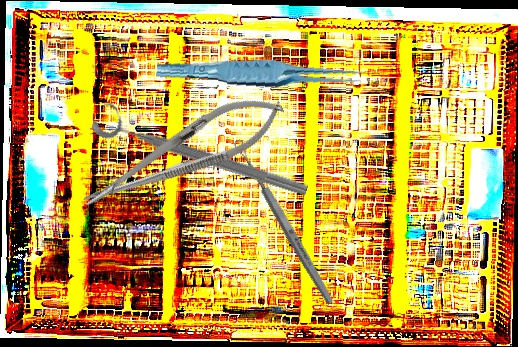Fixation Ring: (89, 97, 315, 203)
Needle Holder: (73, 80, 293, 226)
Surgical Spoon: (231, 137, 337, 307)
Tissue Forceps: (156, 48, 366, 100)
